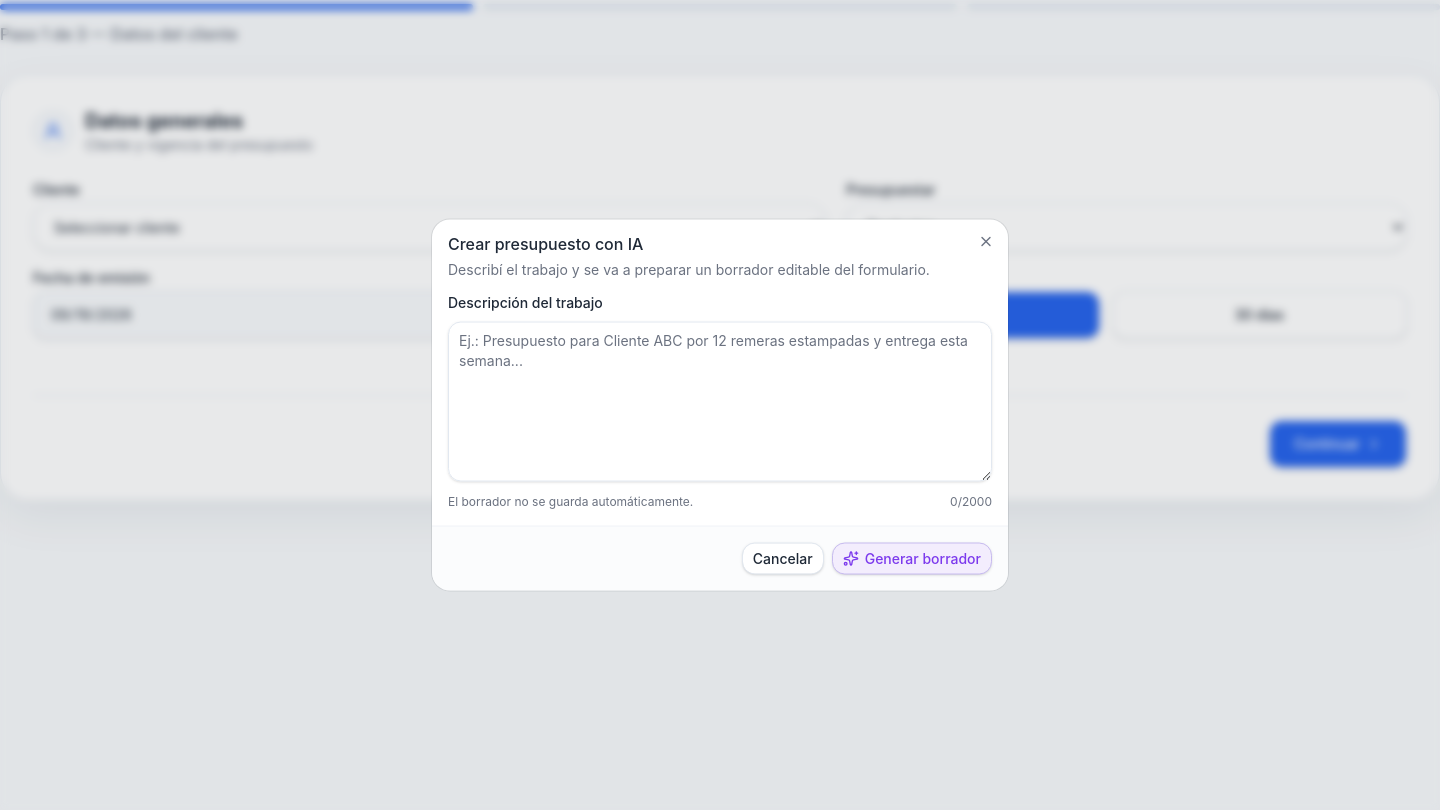
Test: QuoteForm › muestra cliente sugerido sin match y permite descartar el borrador IA
This screenshot has width=1440, height=810.
Replace the text in the text box labelled "Descripción del trabajo" with "Presupuesto para cliente nuevo sugerido": (720, 402) [448,322,992,482]
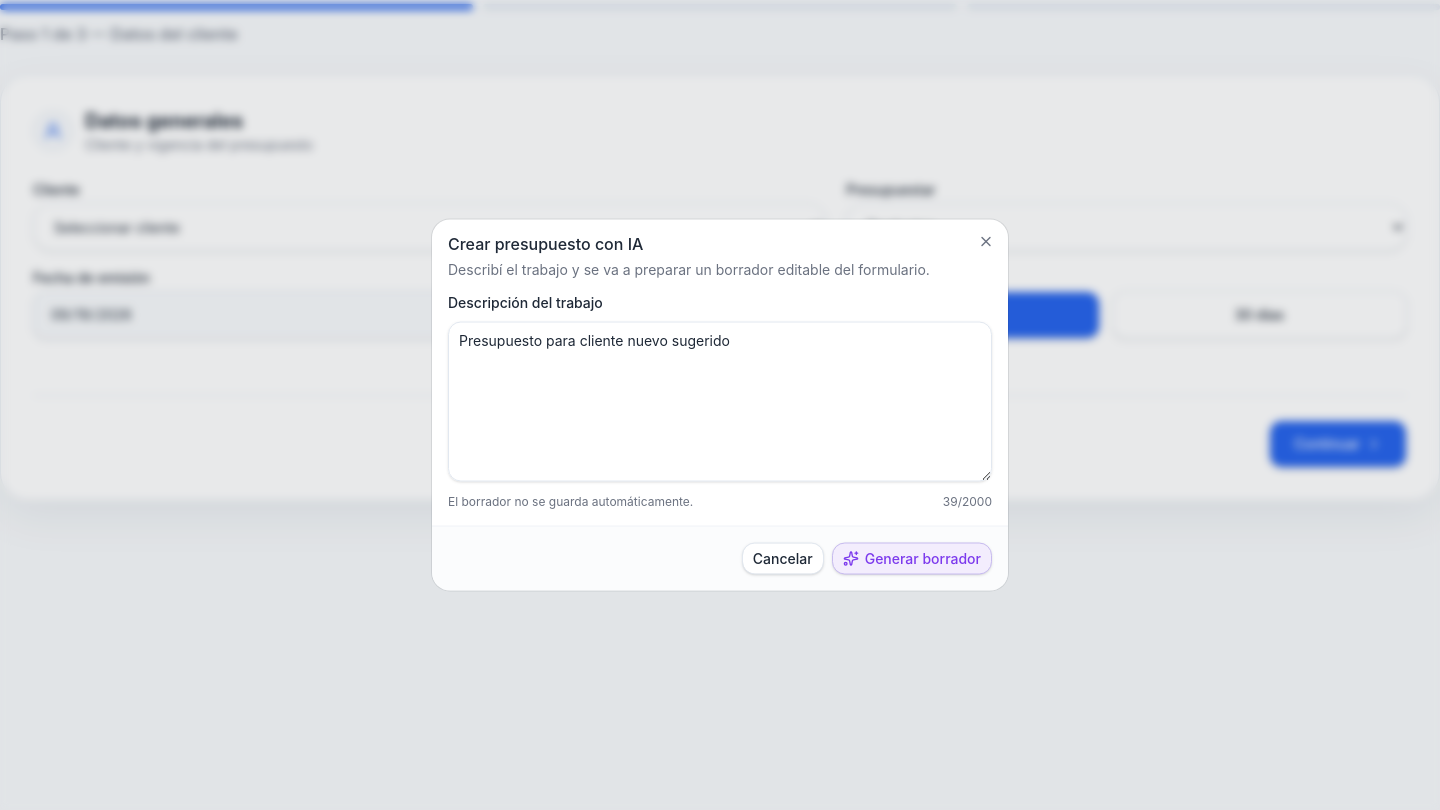
Click the button "Generar borrador": (912, 558) [832,542,992,574]
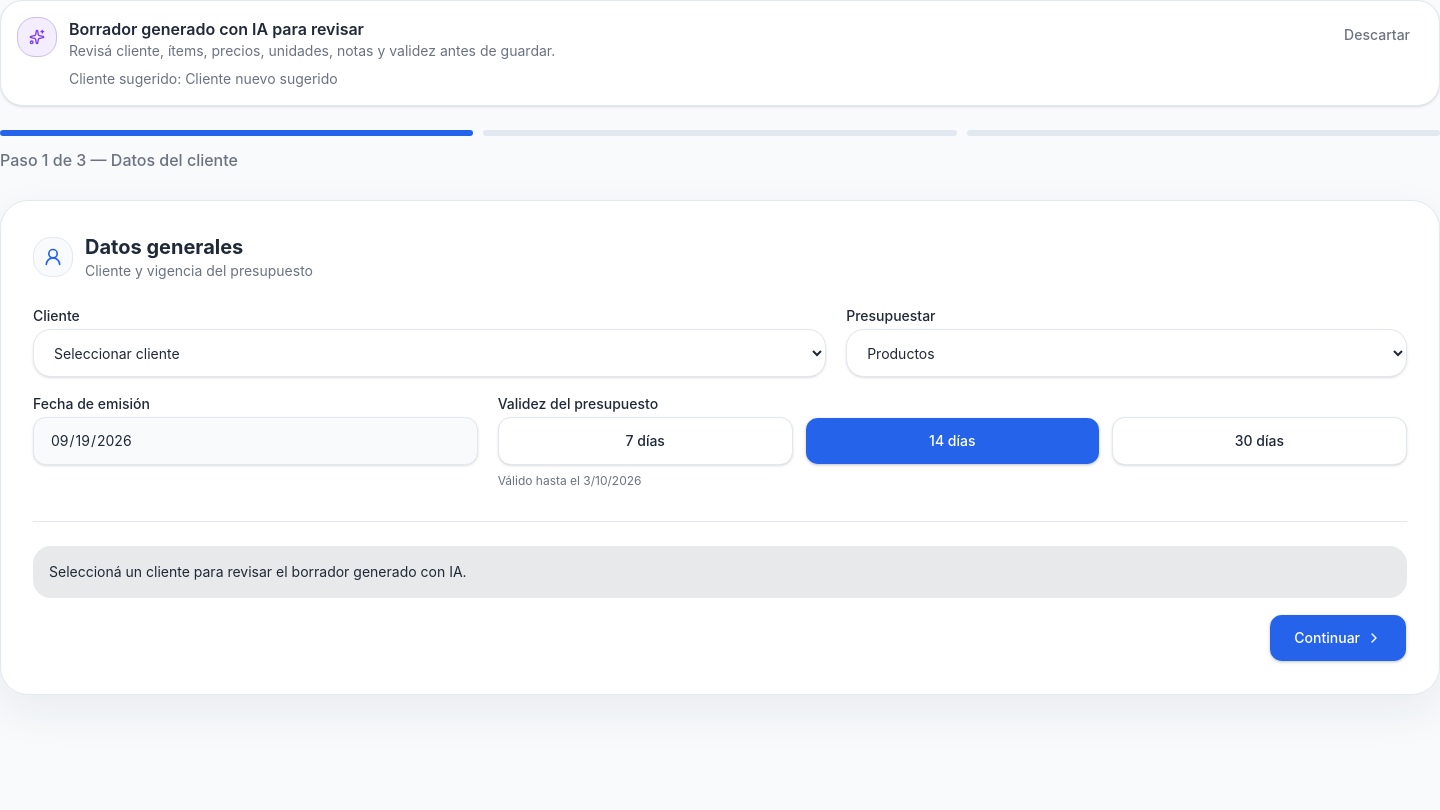
Now the text "Cliente sugerido: Cliente nuevo sugerido" is shown, box [69,70,338,87]
Now the text "Seleccioná un cliente para revisar el borrador generado con IA." is shown, box [33,546,1407,598]
Click the button "Descartar": (1377, 35) [1331,17,1423,53]
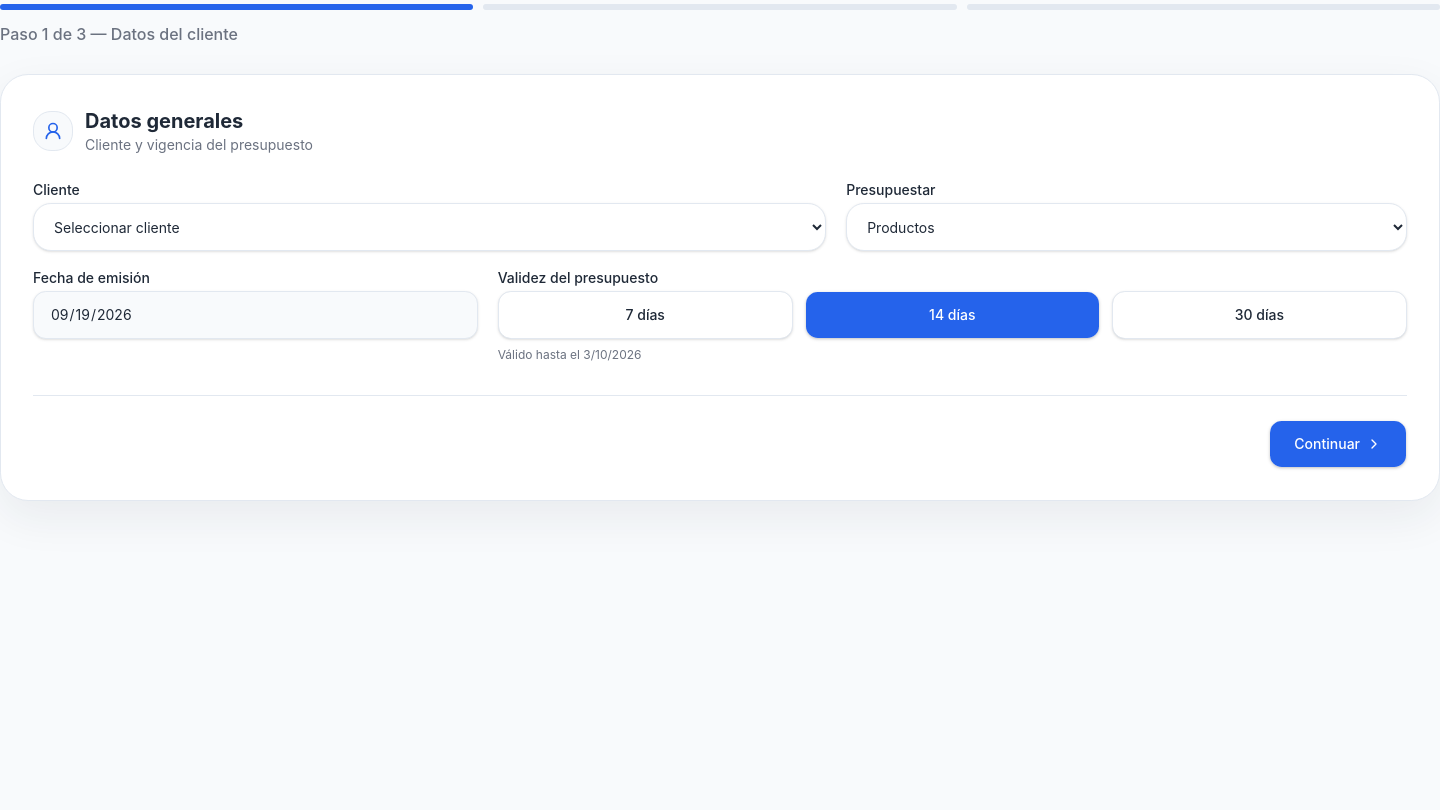
Now the text "Borrador generado con IA para revisar" is gone
